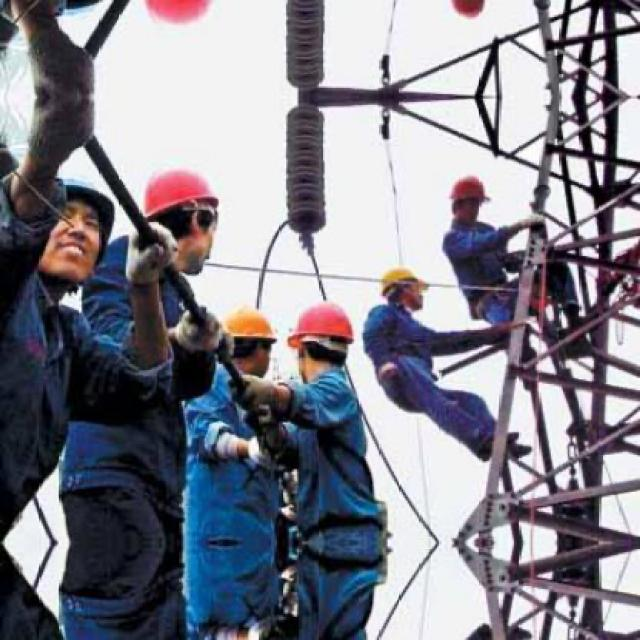helmet: (15, 168, 117, 285), (142, 159, 229, 265), (288, 298, 355, 382), (218, 298, 282, 374), (142, 0, 230, 37), (14, 0, 117, 28), (375, 262, 428, 309), (446, 172, 491, 226), (446, 0, 492, 23)
